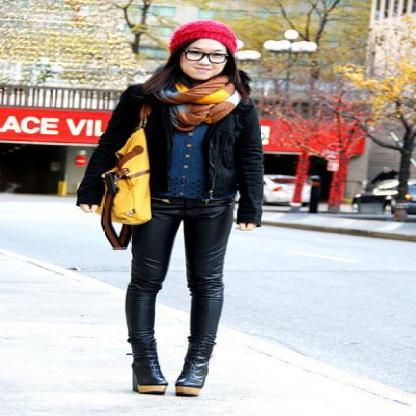bag: (101, 128, 151, 249)
hat: (172, 21, 235, 41)
jacket: (76, 84, 285, 226)
pants: (125, 191, 237, 351)
shirt: (166, 126, 205, 198)
shoe: (126, 347, 211, 396)
